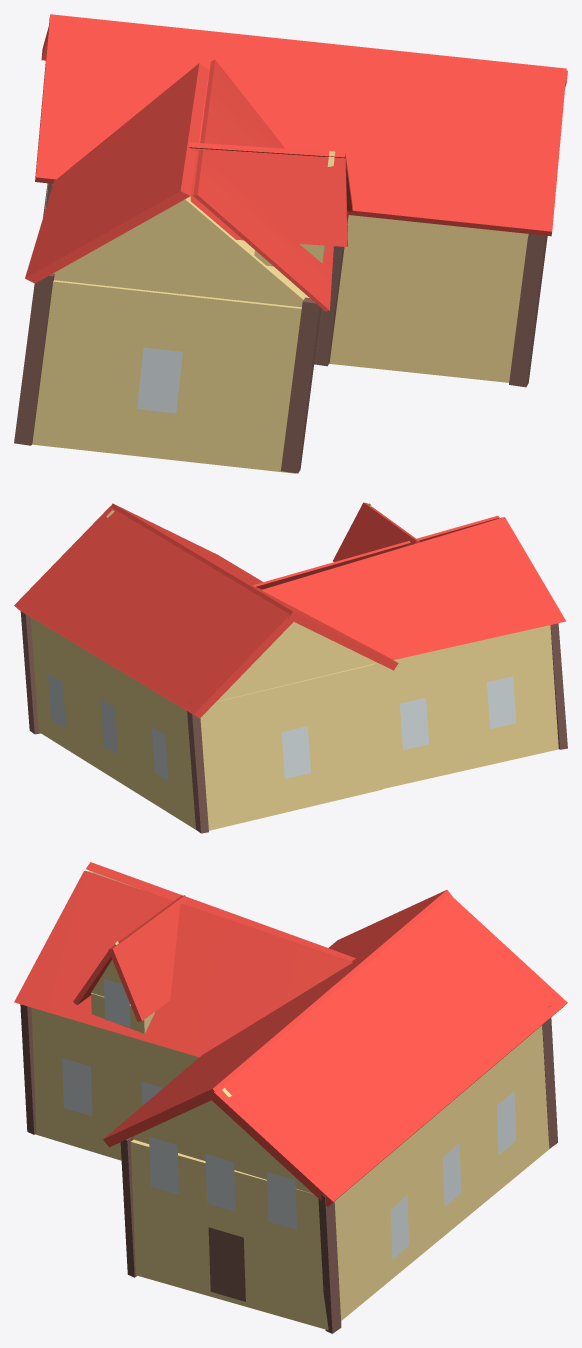
Rendered from maison (1).fbx.
3 renders of one model, top to bottom at view 1: azimuth 30°, elevation 25°; view 2: azimuth 150°, elevation 25°; view 3: azimuth 270°, elevation 25°, orthographic. The views are drawn at different scales.
Visible parts, largest first — view 1: Cube__3_, Cube__1_, maison__1_, PolyShape__1_, Prism__3_, PolyShape, Cube__5_, Cube__5__1, Cube__4__1, Cube__1__1, Sprite__7_, Cube__7__1 (+1 smaller); view 2: maison__1_, Cube__2_, PolyShape__1_, Cube__1_, Prism__2_, Cube__3_, Cube__7_, Cube__3__1, PolyShape, Sprite__11_, Sprite__12_, Sprite__13_ (+5 smaller); view 3: Cube__2_, maison__1_, PolyShape, Cube__1_, Cube__3_, Prism, Cube__7_, Sprite, Cube__2__1, PolyShape__1_, Sprite__3_, Sprite__5_ (+10 smaller).
Part boxes in pixels (x1=…): Cube__3_: x1=35, y1=14, x2=566, y2=236; Cube__1_: x1=32, y1=196, x2=309, y2=473; maison__1_: x1=52, y1=184, x2=528, y2=382; PolyShape__1_: x1=25, y1=63, x2=208, y2=283; Prism__3_: x1=53, y1=198, x2=304, y2=307; PolyShape: x1=193, y1=59, x2=333, y2=311; Cube__5_: x1=190, y1=148, x2=347, y2=246; Cube__5__1: x1=281, y1=297, x2=321, y2=473; Cube__4__1: x1=14, y1=273, x2=54, y2=445; Cube__1__1: x1=509, y1=234, x2=547, y2=387; Sprite__7_: x1=137, y1=347, x2=182, y2=413; Cube__7__1: x1=314, y1=215, x2=348, y2=366; maison__1_: x1=30, y1=617, x2=382, y2=830; Cube__2_: x1=14, y1=506, x2=293, y2=718; PolyShape__1_: x1=261, y1=517, x2=566, y2=663; Cube__1_: x1=374, y1=625, x2=558, y2=788; Prism__2_: x1=217, y1=622, x2=376, y2=701; Cube__3_: x1=110, y1=503, x2=398, y2=670; Cube__7_: x1=333, y1=502, x2=420, y2=561; Cube__3__1: x1=187, y1=702, x2=208, y2=833; PolyShape: x1=253, y1=515, x2=499, y2=589; Sprite__11_: x1=281, y1=726, x2=310, y2=778; Sprite__12_: x1=399, y1=697, x2=429, y2=750; Sprite__13_: x1=487, y1=676, x2=516, y2=729; Cube__2_: x1=208, y1=894, x2=567, y2=1206; maison__1_: x1=130, y1=1025, x2=550, y2=1330; PolyShape: x1=14, y1=870, x2=352, y2=1057; Cube__1_: x1=31, y1=1008, x2=199, y2=1160; Cube__3_: x1=103, y1=890, x2=452, y2=1147; Prism: x1=133, y1=1088, x2=313, y2=1193; Cube__7_: x1=108, y1=895, x2=186, y2=1021; Sprite: x1=208, y1=1227, x2=245, y2=1301; Cube__2__1: x1=318, y1=1195, x2=341, y2=1333; PolyShape__1_: x1=86, y1=862, x2=355, y2=961; Sprite__3_: x1=205, y1=1153, x2=235, y2=1211; Sprite__5_: x1=62, y1=1058, x2=92, y2=1115.
Bounding box in the file's own units: 176 × 81.34 × 153.
